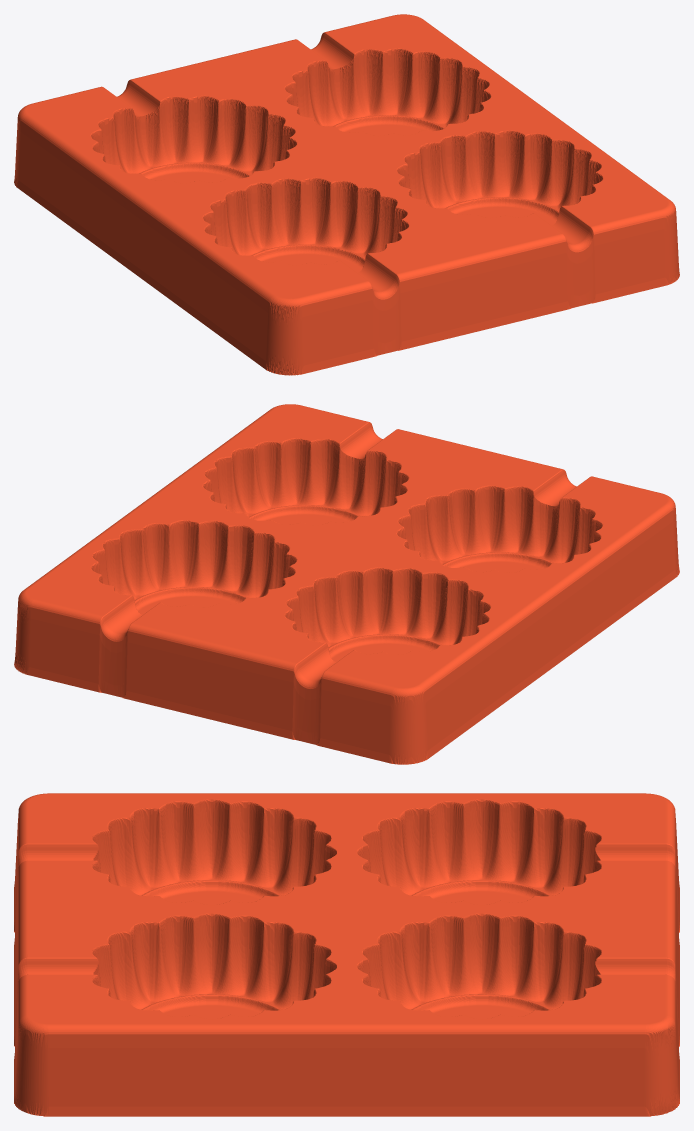
The model's file is mold.glb.
The picture shows the model from 3 angles, top to bottom: view 1: azimuth 30°, elevation 25°; view 2: azimuth 150°, elevation 25°; view 3: azimuth 270°, elevation 25°; orthographic projection. The views are drawn at different scales.
Parts seen in each view (by area): view 1: geometry_0; view 2: geometry_0; view 3: geometry_0.
Part boxes in pixels (x1,y1,x2,y2): geometry_0: (14, 14, 679, 375); geometry_0: (14, 404, 679, 764); geometry_0: (14, 793, 679, 1116).
Size of the model in its own units: 0.1468 by 0.0245 by 0.171.
